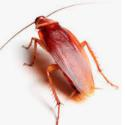cockroach: (31, 13, 95, 103)
